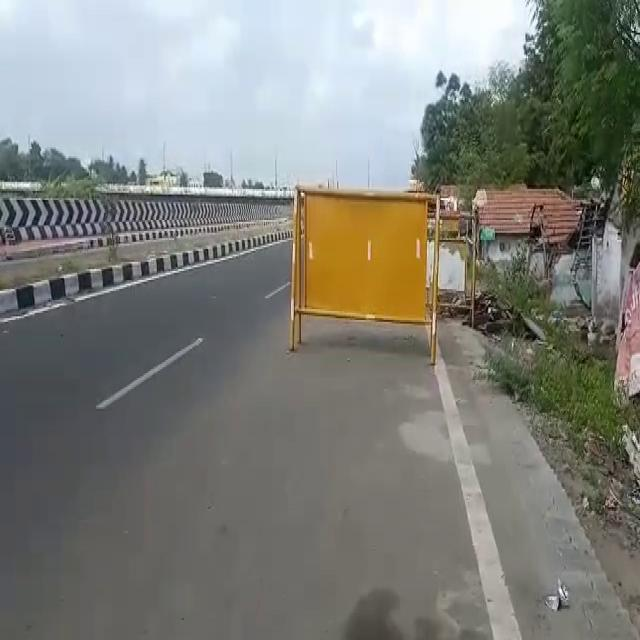fallen_object: (279, 159, 468, 380)
